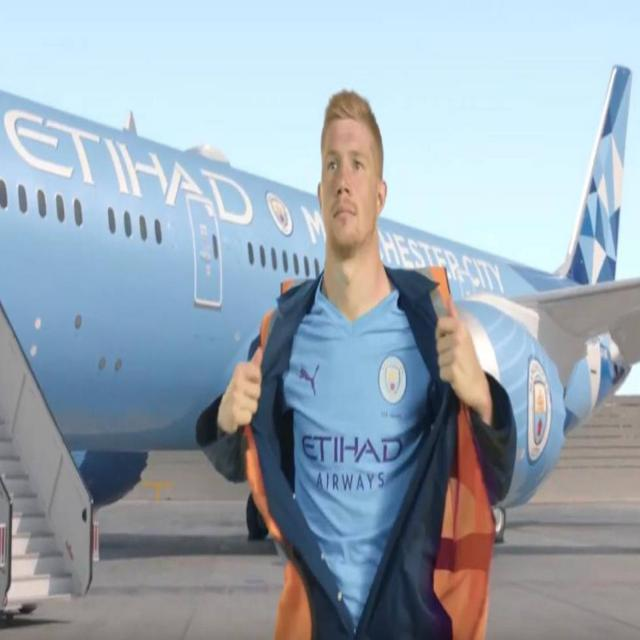Etihad Airways: (3, 103, 254, 230), (302, 432, 406, 493)
Puma: (299, 364, 320, 396)
